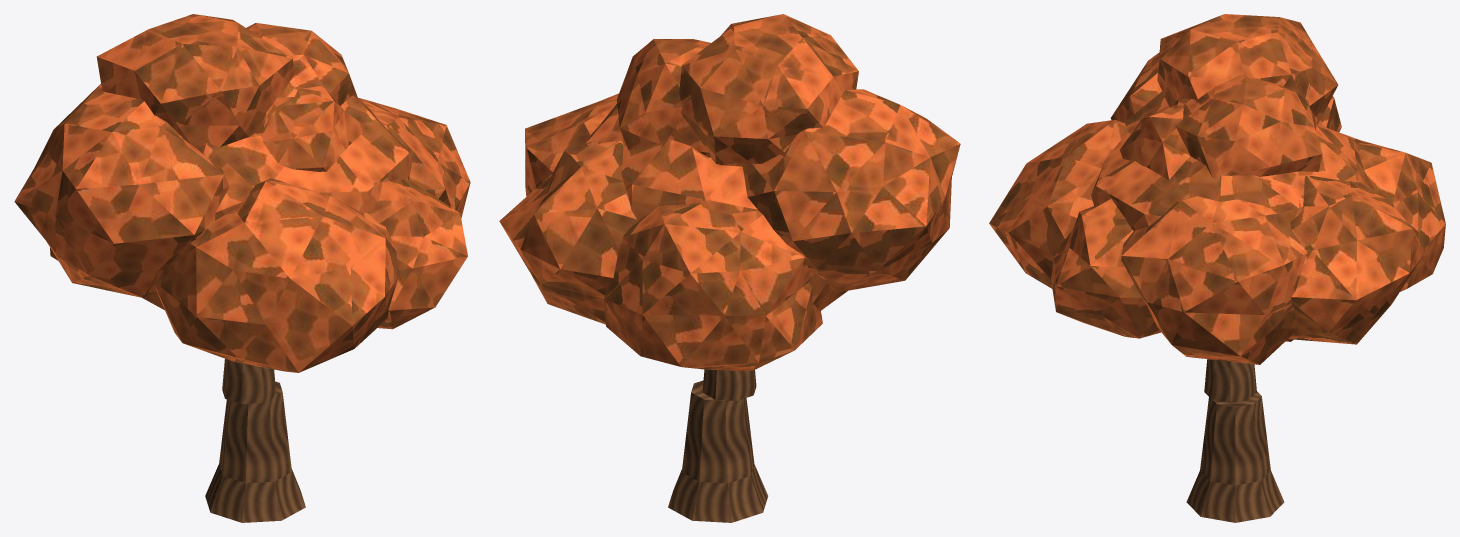
Rendered from tree_maple.glb.
3 renders of one model, left to right at view 1: azimuth 30°, elevation 25°; view 2: azimuth 150°, elevation 25°; view 3: azimuth 270°, elevation 25°, orthographic. The views are drawn at different scales.
Parts seen in each view (by area): view 1: tree_maple; view 2: tree_maple; view 3: tree_maple.
Boxes of the visible parts, box(x1,y1,x2,y2) form: tree_maple: box(14, 14, 470, 522); tree_maple: box(499, 14, 960, 522); tree_maple: box(989, 14, 1445, 522).
Size of the model in its own units: 3.62 by 4 by 3.65.
2 materials, 2 textured.
